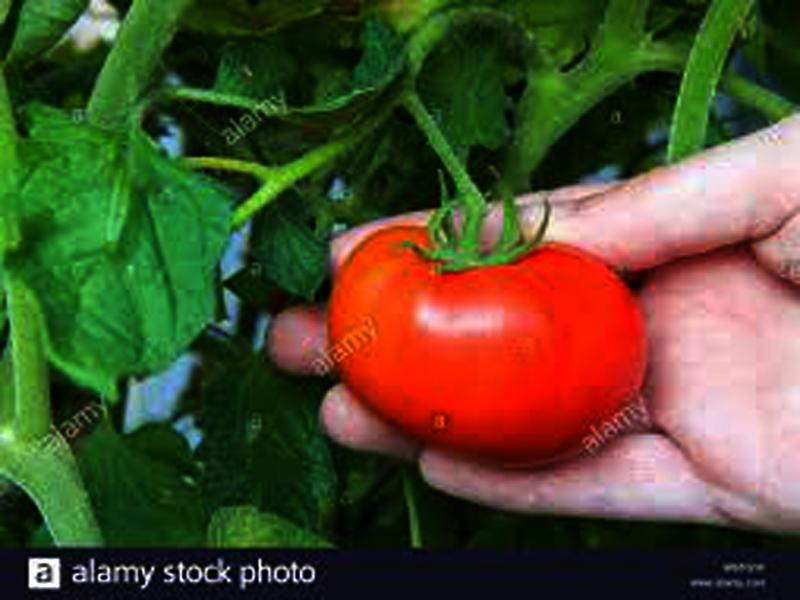Tomato: (328, 226, 649, 458)
